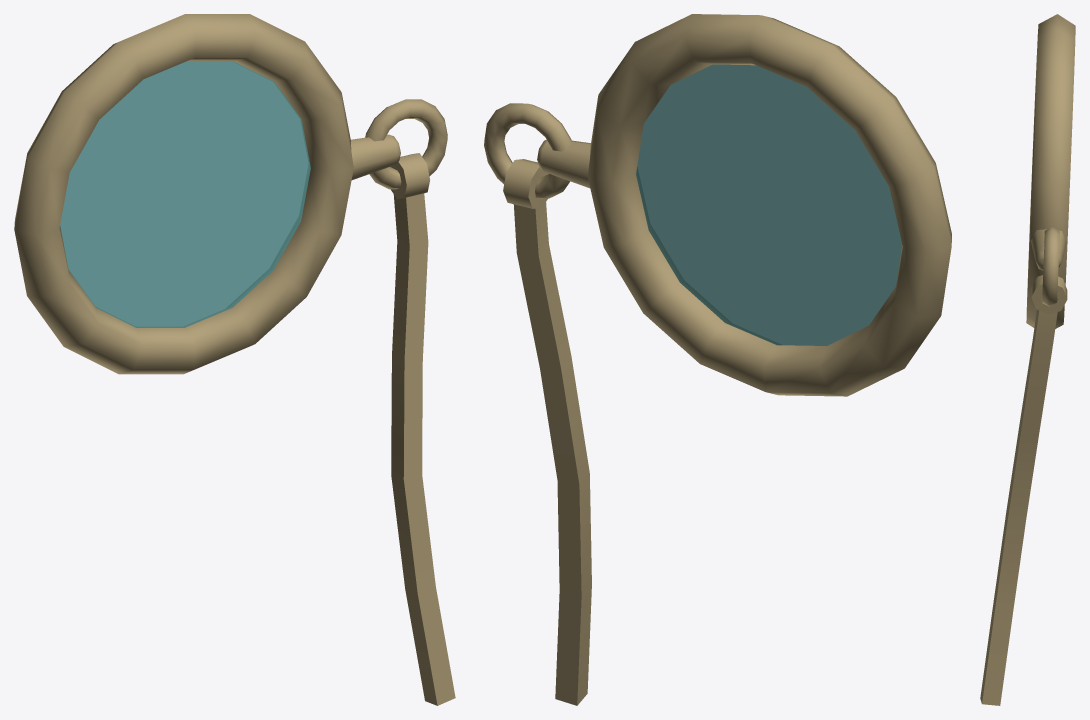
The model's file is Face_Monocle.fbx.
3 renders of one model, left to right at view 1: azimuth 30°, elevation 25°; view 2: azimuth 150°, elevation 25°; view 3: azimuth 270°, elevation 25°, orthographic. The views are drawn at different scales.
Parts seen in each view (by area): view 1: Face_Monocle; view 2: Face_Monocle; view 3: Face_Monocle.
Boxes of the visible parts, <box> form: Face_Monocle: <box>14,14,455,705</box>; Face_Monocle: <box>484,14,951,705</box>; Face_Monocle: <box>980,14,1075,705</box>.
Bounding box in the file's own units: 0.5624 × 0.8851 × 0.1304.
